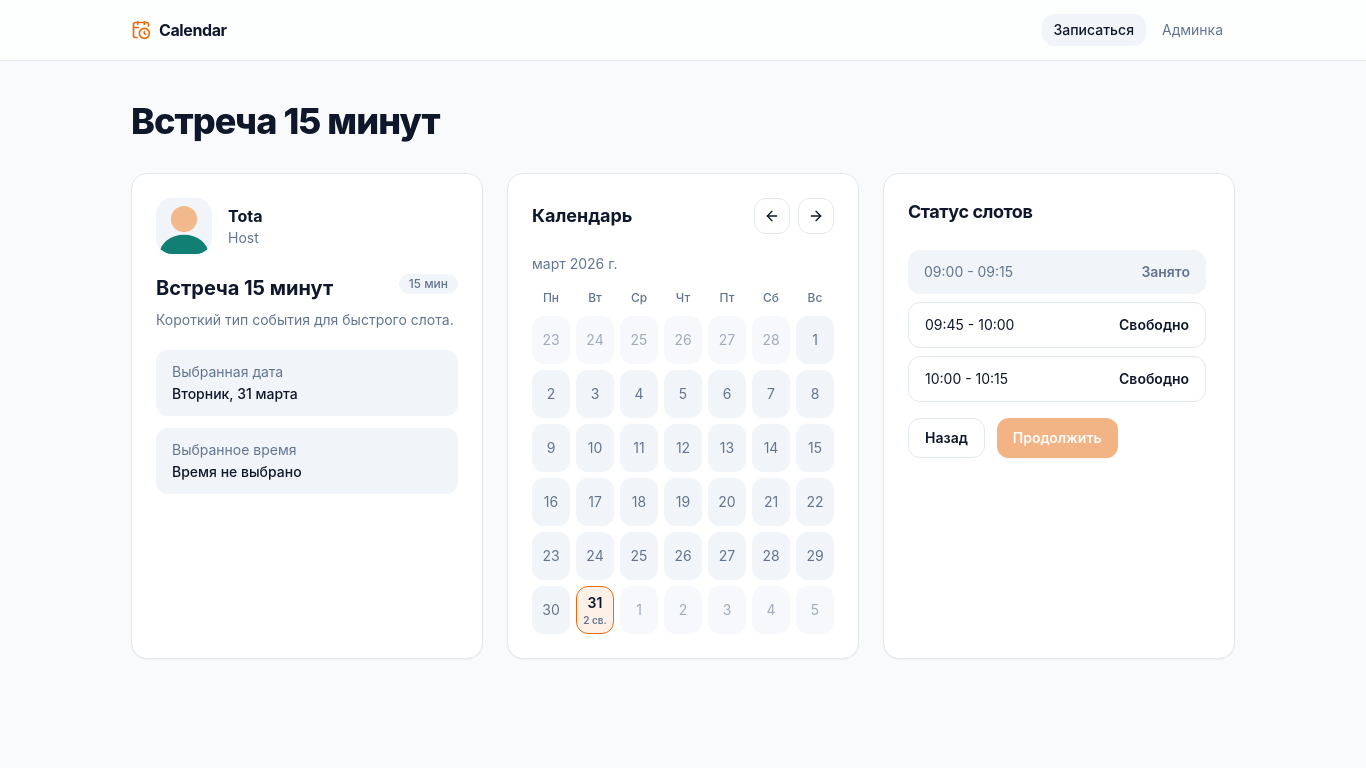
Test: BookingPage › на 409 slot_taken показывает ошибку и возвращает к выбору слота
Click the button "09:45 - 10:00 Свободно": (970, 324) [908, 302, 1206, 348]
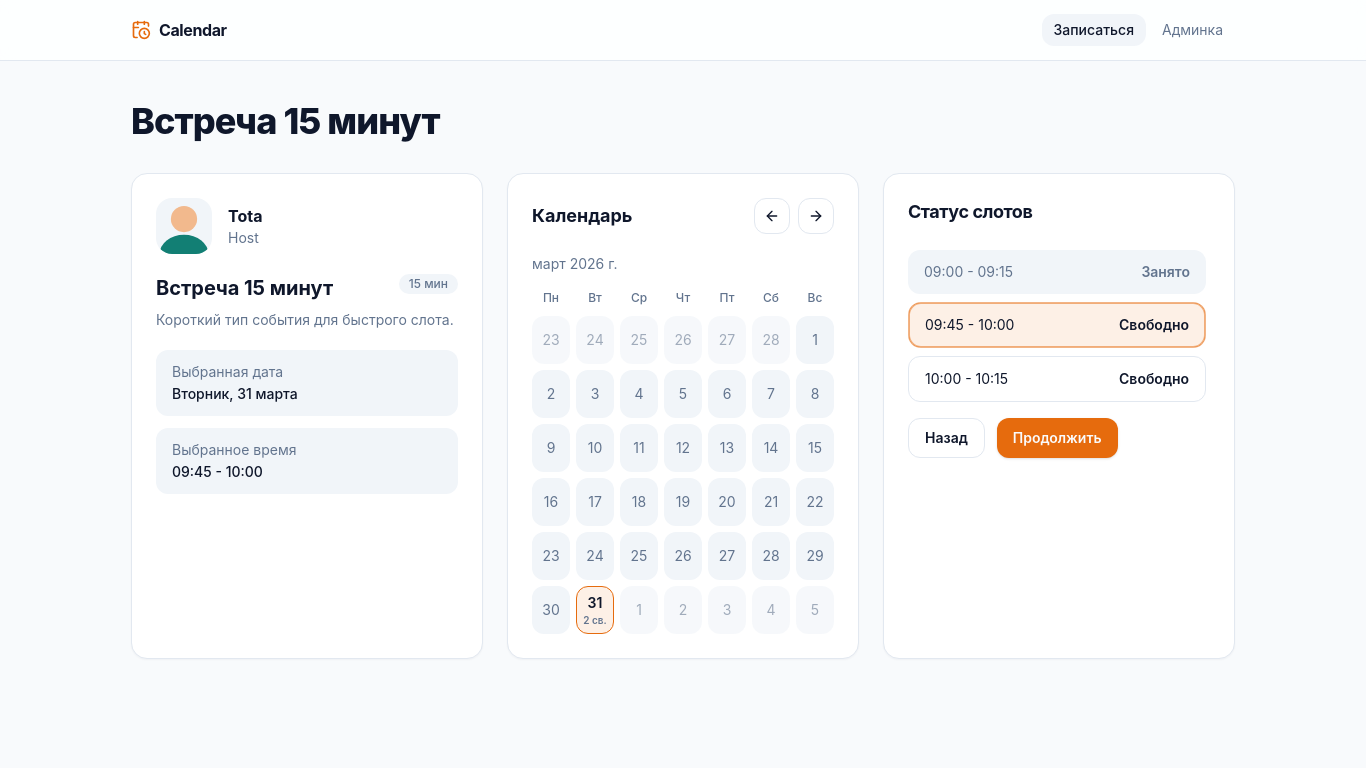
Click the button "Продолжить": (1057, 438) [997, 418, 1118, 458]
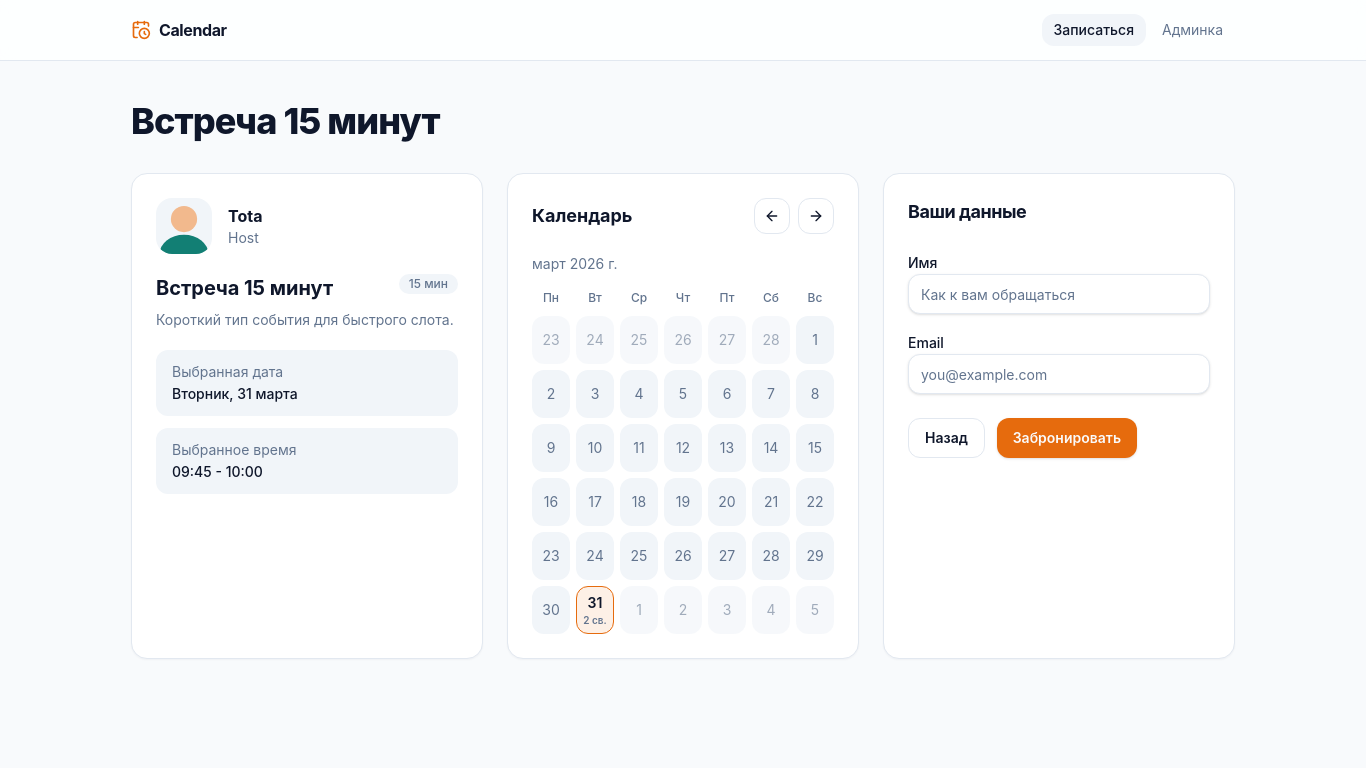
In the field labelled "Имя": (1059, 294) [908, 274, 1210, 314], type "Мария"
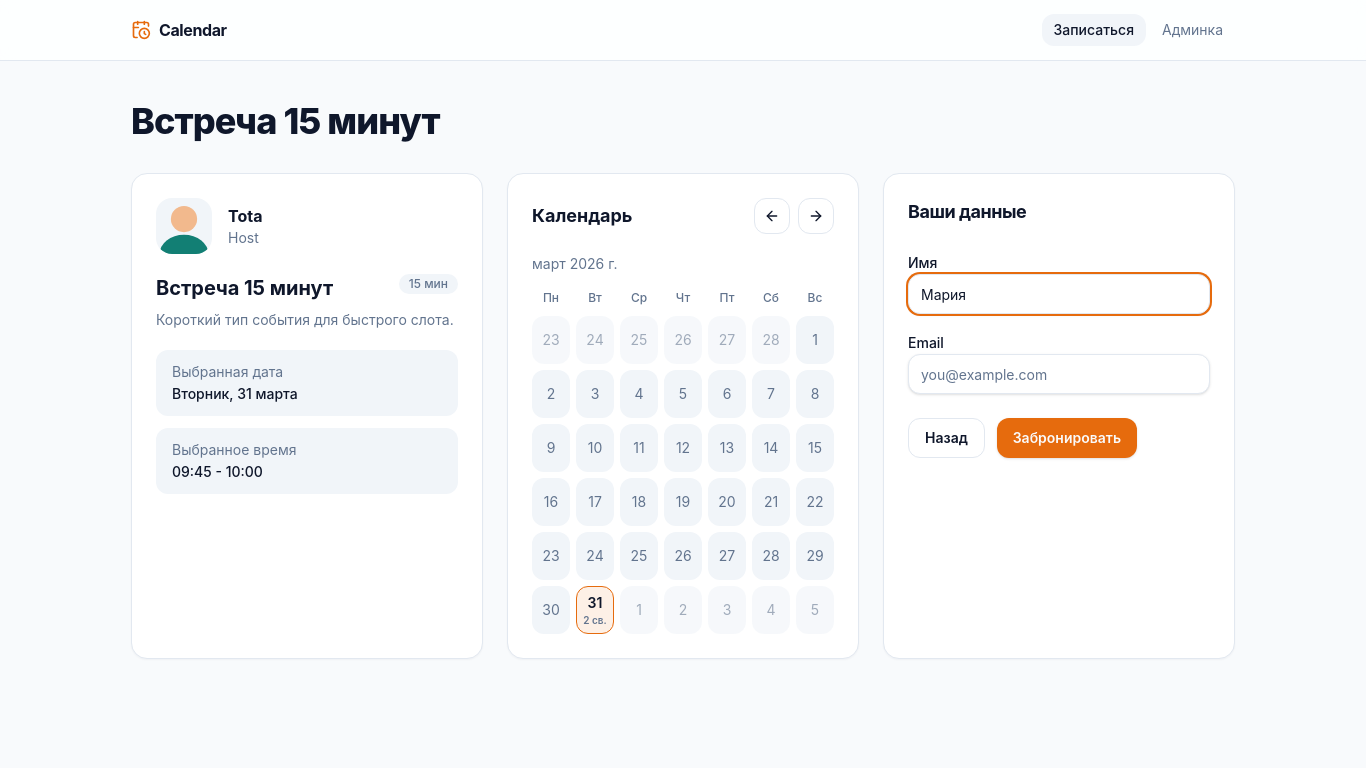
In the field labelled "Email": (1059, 374) [908, 354, 1210, 394], type "maria@example.com"
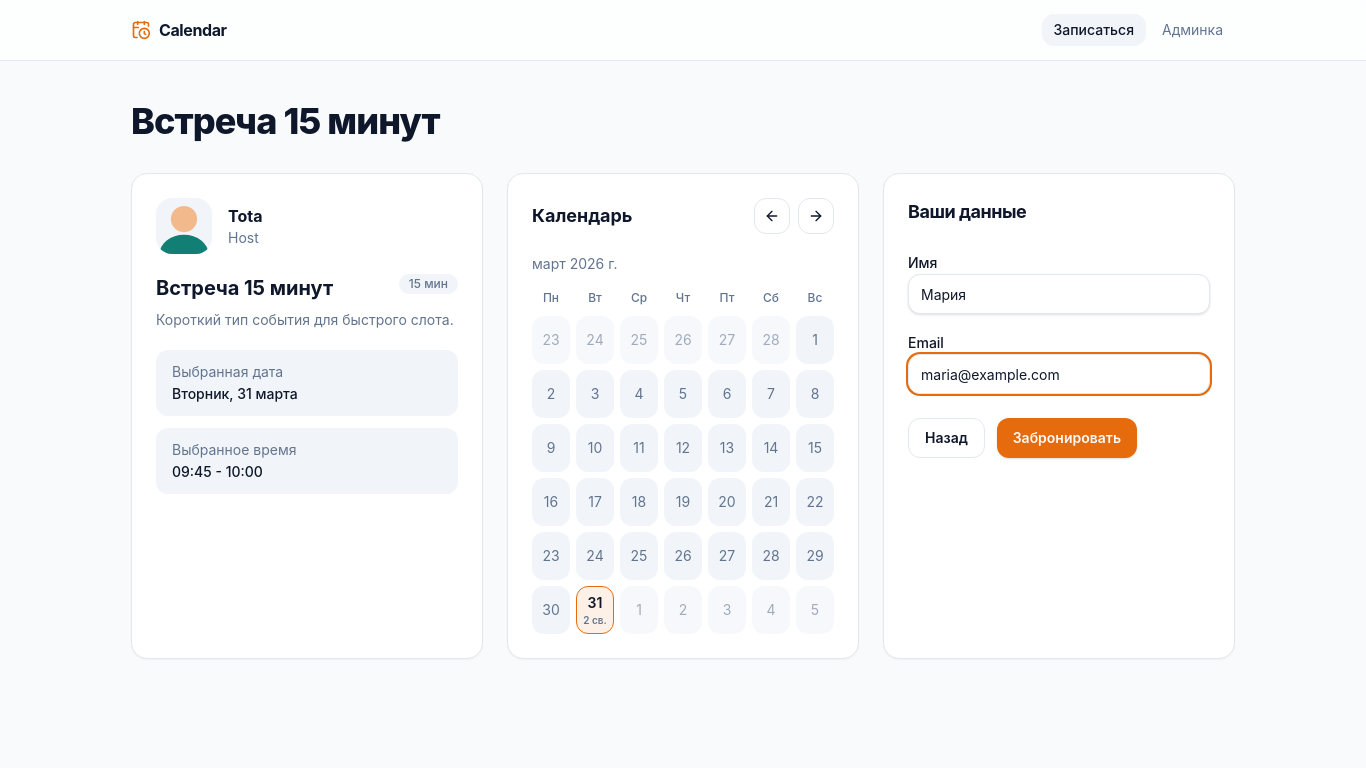
Click the button "Забронировать": (1067, 438) [997, 418, 1137, 458]
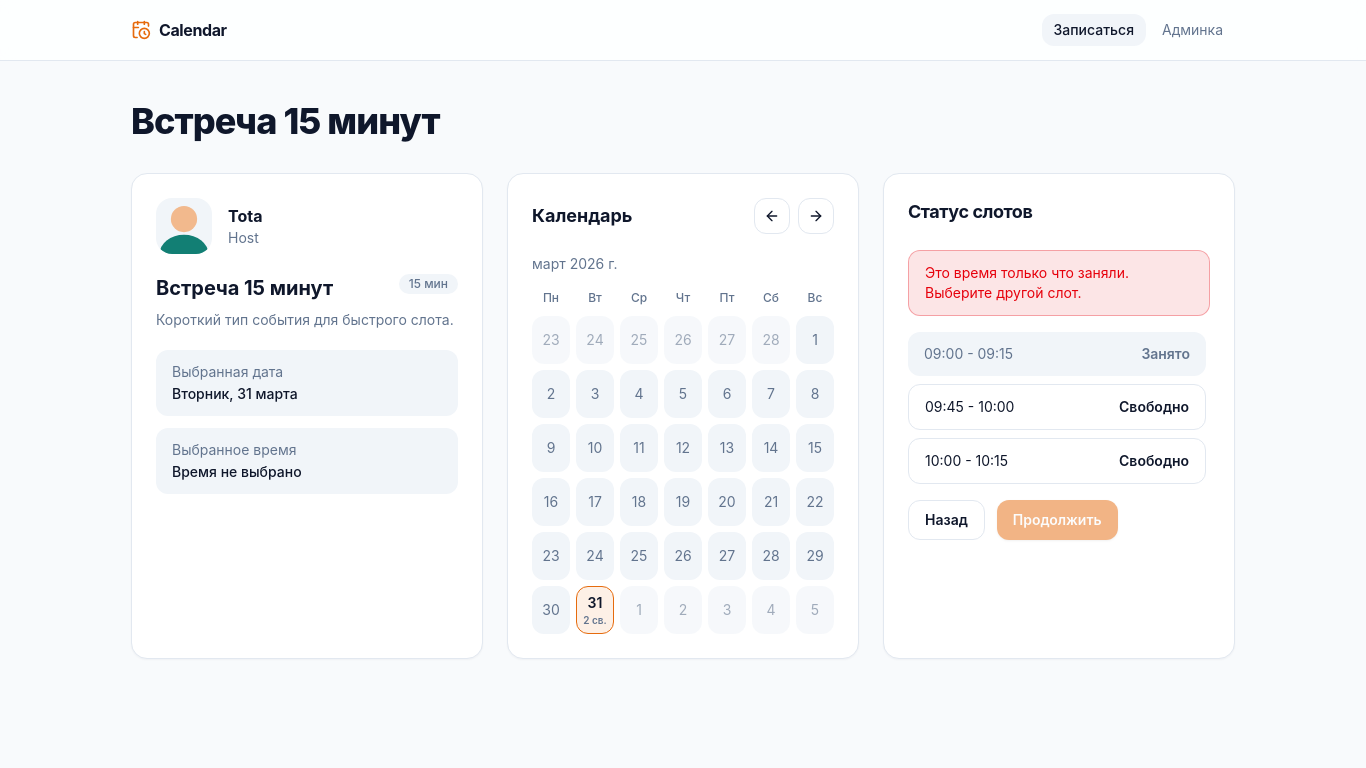
Expected: the message reads "Это время только что заняли. Выберите другой слот.", [925, 264, 1129, 301]
Expected: the button "Продолжить" is disabled, [997, 500, 1118, 540]
